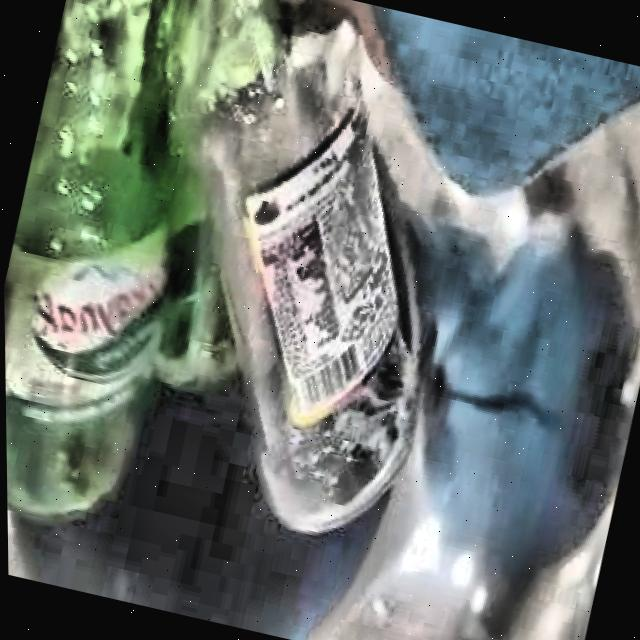glass: (3, 0, 419, 532)
